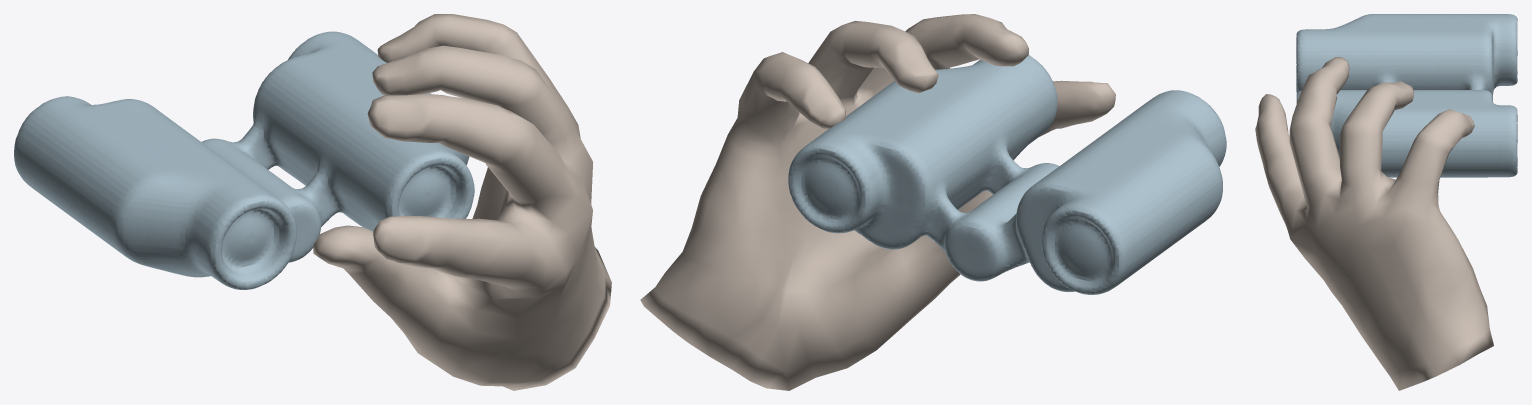
Rendered from ours_0.glb.
3 views of the same model, side by side, from view 1: azimuth 30°, elevation 25°; view 2: azimuth 150°, elevation 25°; view 3: azimuth 270°, elevation 25° (orthographic). The views are drawn at different scales.
Size of the model in its own units: 0.2186 by 0.1451 by 0.1291.
